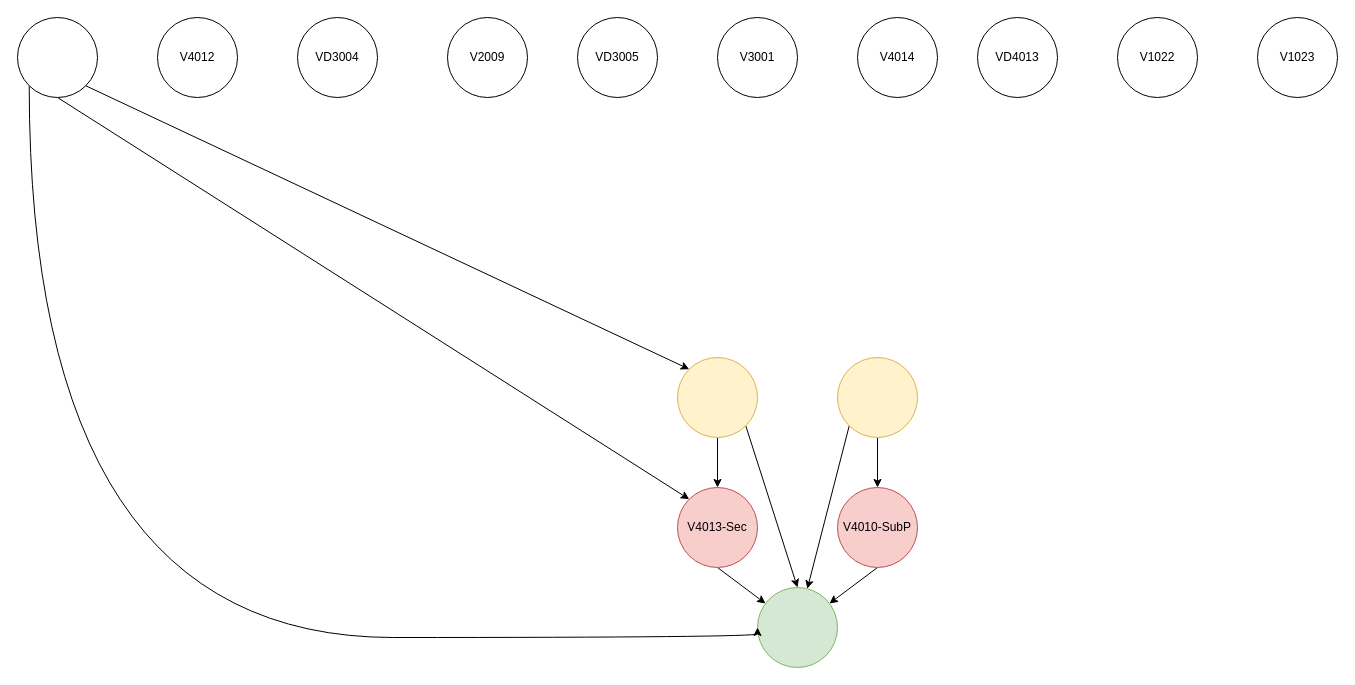
This 1355x685 diagram has some shape labels left out. Each missing label, with the centre of its shape:
UF: the point at 57,57
V2007-Bin: the point at 877,397
V2010-Bin: the point at 717,397
VD4016: the point at 797,627
